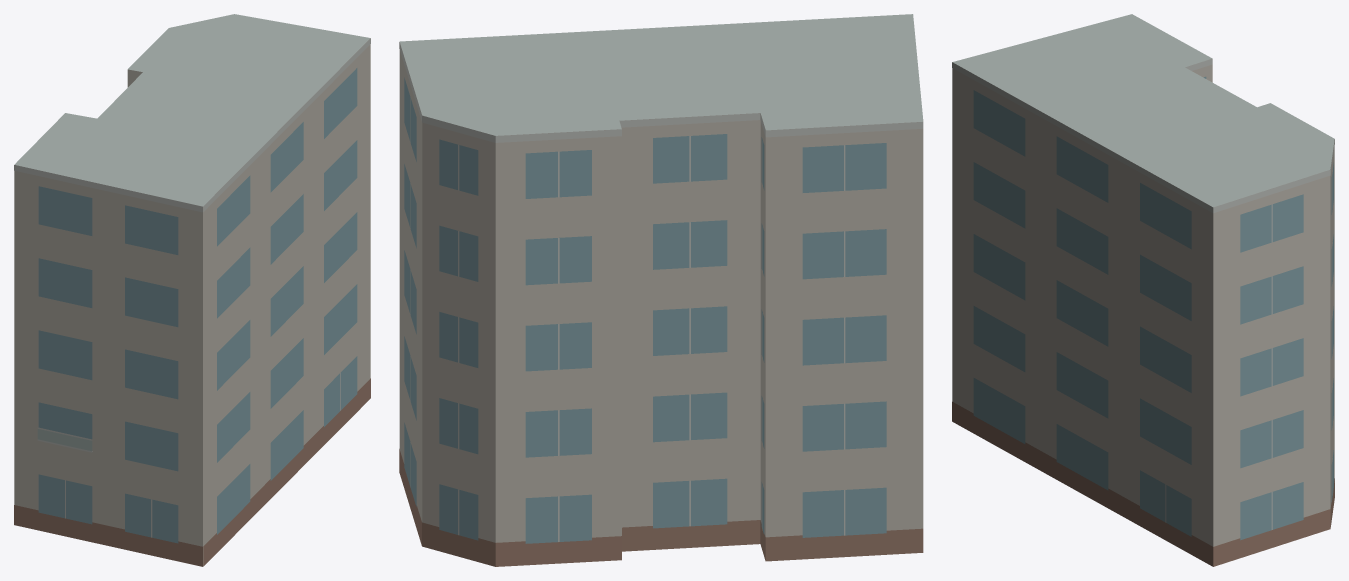
Rendered from survey-upis-32506752.glb.
3 views of the same model, side by side, from view 1: azimuth 30°, elevation 25°; view 2: azimuth 150°, elevation 25°; view 3: azimuth 270°, elevation 25° (orthographic). The views are drawn at different scales.
Visible parts, largest first — view 1: survey-upis-32506752.tmp; view 2: survey-upis-32506752.tmp; view 3: survey-upis-32506752.tmp.
Part boxes in pixels (x1=…): survey-upis-32506752.tmp: x1=14, y1=14, x2=370, y2=566; survey-upis-32506752.tmp: x1=399, y1=14, x2=923, y2=566; survey-upis-32506752.tmp: x1=952, y1=14, x2=1334, y2=566.
Size of the model in its own units: 17.24 by 14.93 by 14.41.
